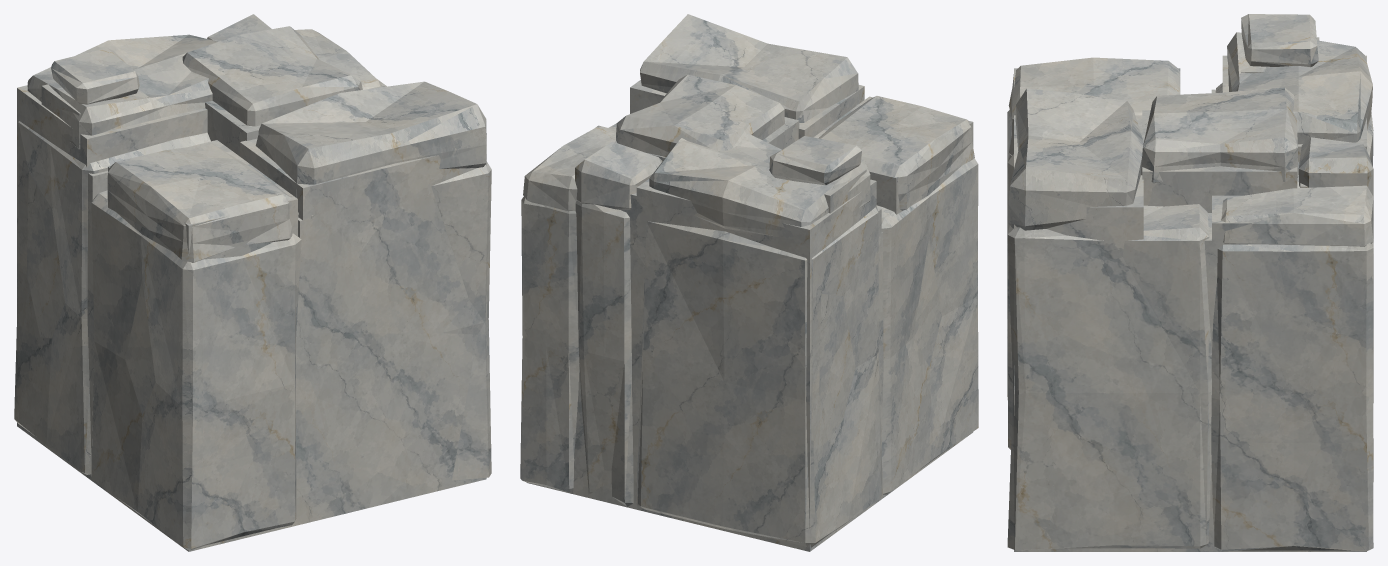
File: wall_stone_07.glb
3 views of the same model, side by side, from view 1: azimuth 30°, elevation 25°; view 2: azimuth 150°, elevation 25°; view 3: azimuth 270°, elevation 25° (orthographic). The views are drawn at different scales.
Visible parts, largest first — view 1: WallStone07; view 2: WallStone07; view 3: WallStone07.
Boxes of the visible parts, box(x1,y1,x2,y2) form: WallStone07: box(14, 14, 491, 551); WallStone07: box(520, 14, 978, 551); WallStone07: box(1007, 14, 1373, 551).
Size of the model in its own units: 1 by 1.19 by 1.
Materials: 1 (1 with a texture image).
